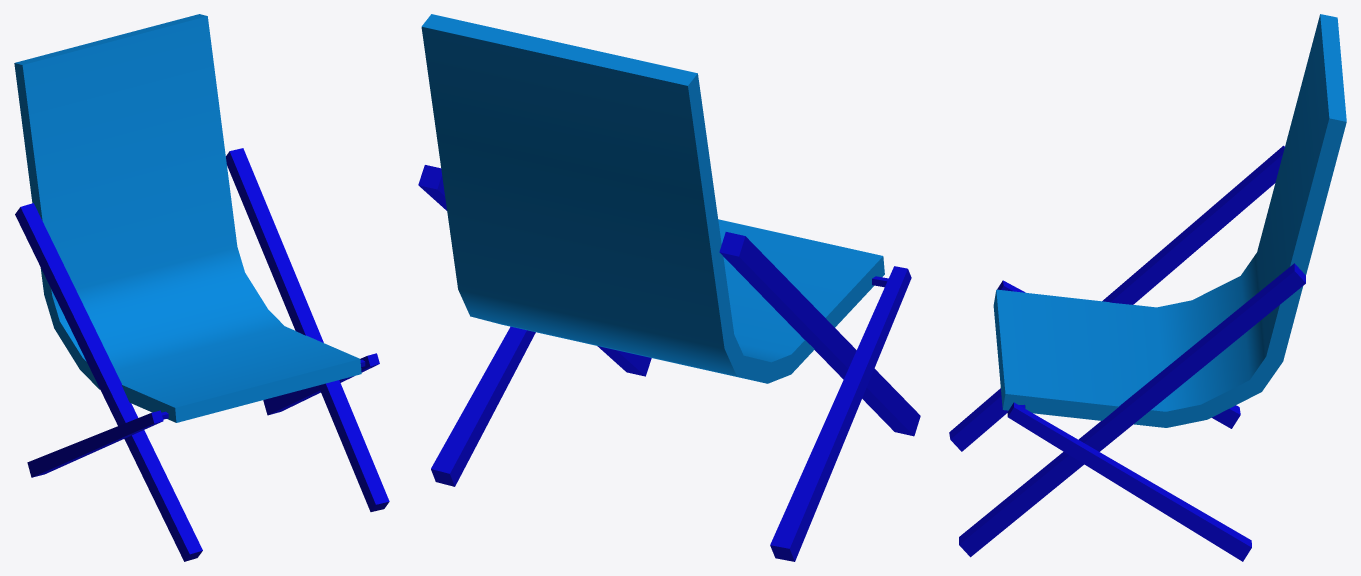
File: Silla.fbx
The picture shows the model from 3 angles, left to right: view 1: azimuth 30°, elevation 25°; view 2: azimuth 150°, elevation 25°; view 3: azimuth 270°, elevation 25°; orthographic projection. The views are drawn at different scales.
Visible parts, largest first — view 1: Sultry Reef.004; view 2: Sultry Reef.004; view 3: Sultry Reef.004.
Part boxes in pixels (x1,y1,x2,y2): Sultry Reef.004: [14, 14, 389, 561]; Sultry Reef.004: [418, 14, 920, 561]; Sultry Reef.004: [949, 14, 1346, 561].
Bounding box in the file's own units: 0.6912 × 0.9855 × 0.8266.
